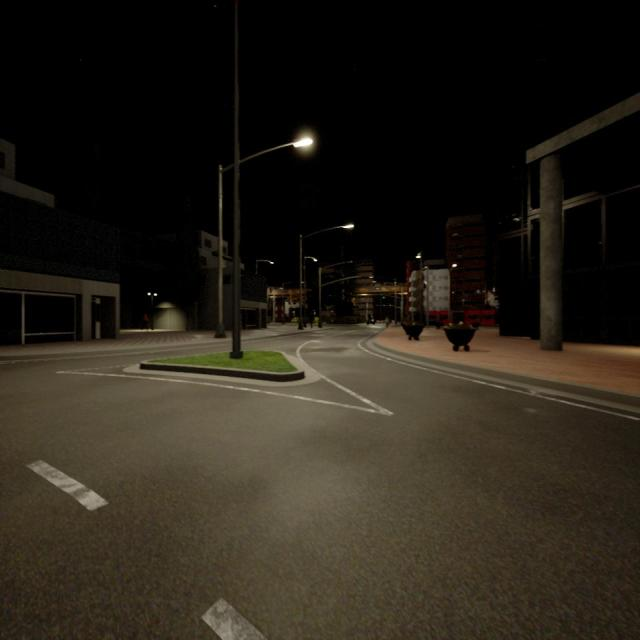Vehicle: (367, 318, 375, 325)
traffic_light: (382, 295, 384, 299)
